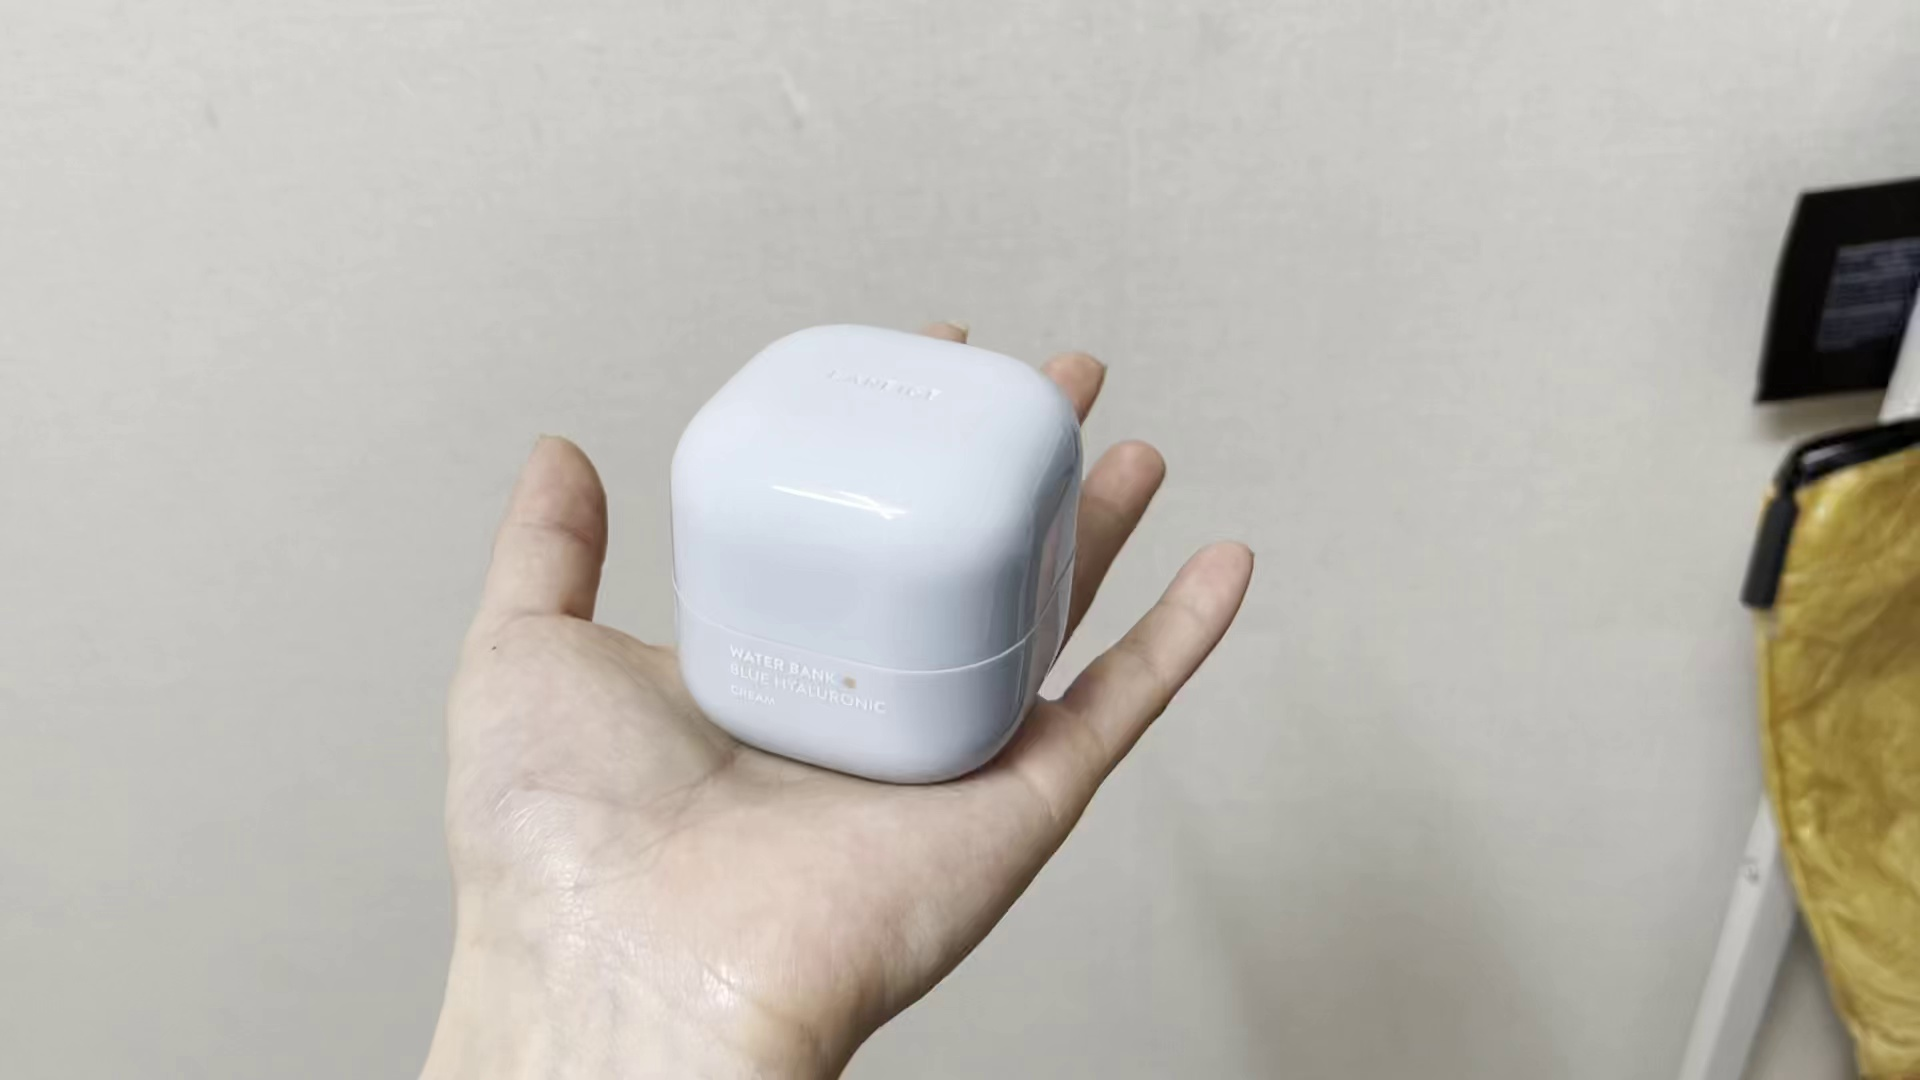cream: (659, 309, 1083, 781)
